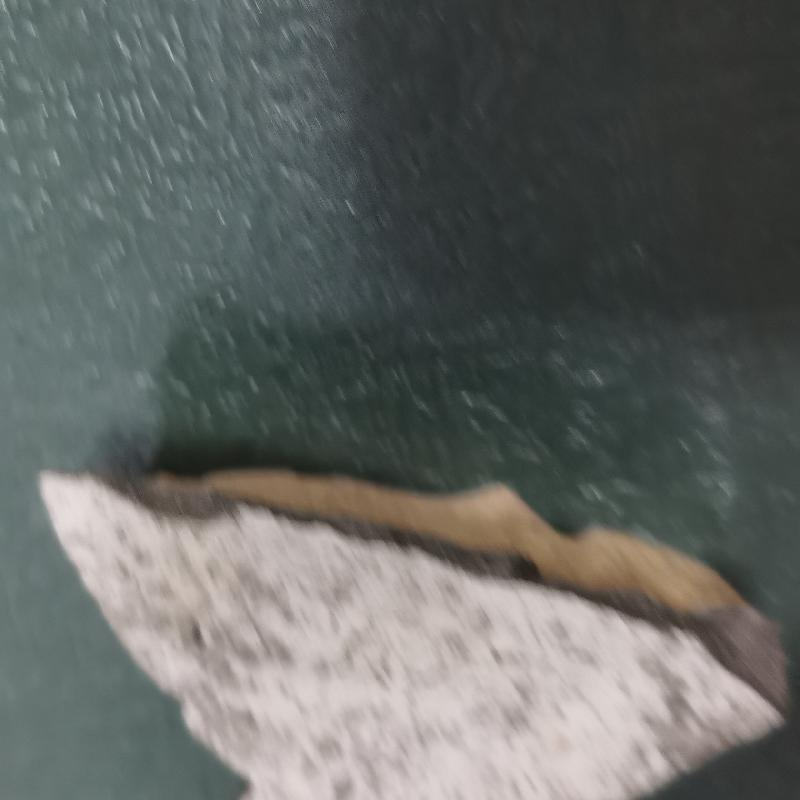tile: (30, 439, 799, 800)
